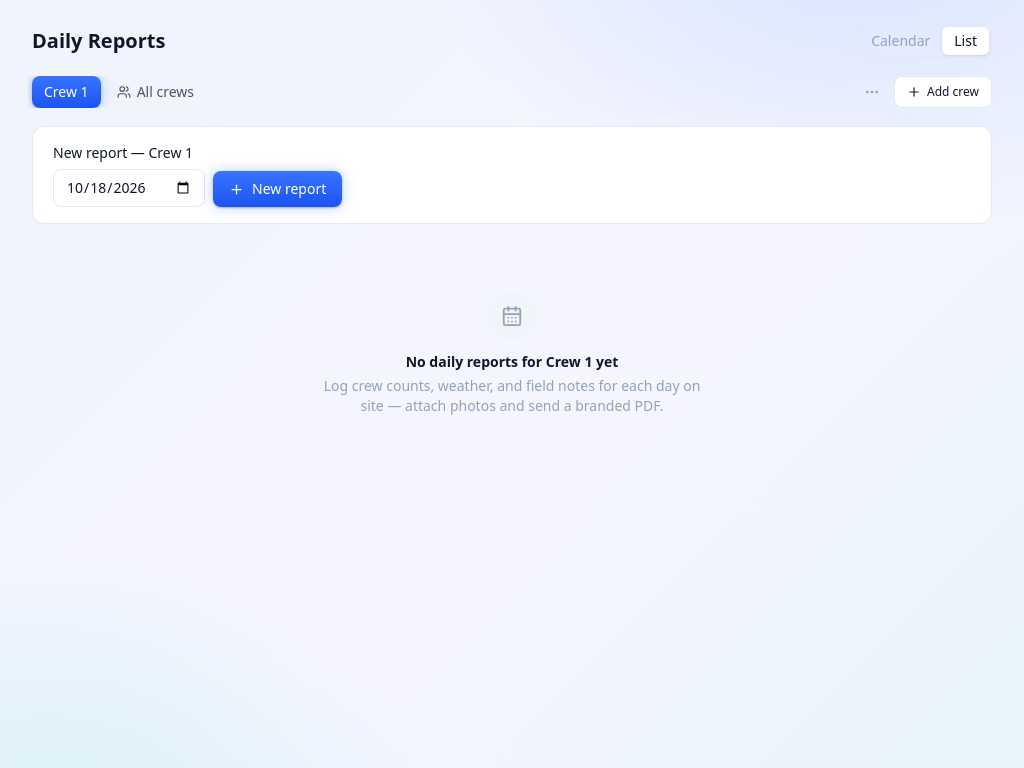
Test case: ProjectDailyReports — crews › can't delete the project's only crew
Click the button named "Crew 1 options". click: click(872, 92)
box: top-left (854, 74), bottom-right (890, 110)
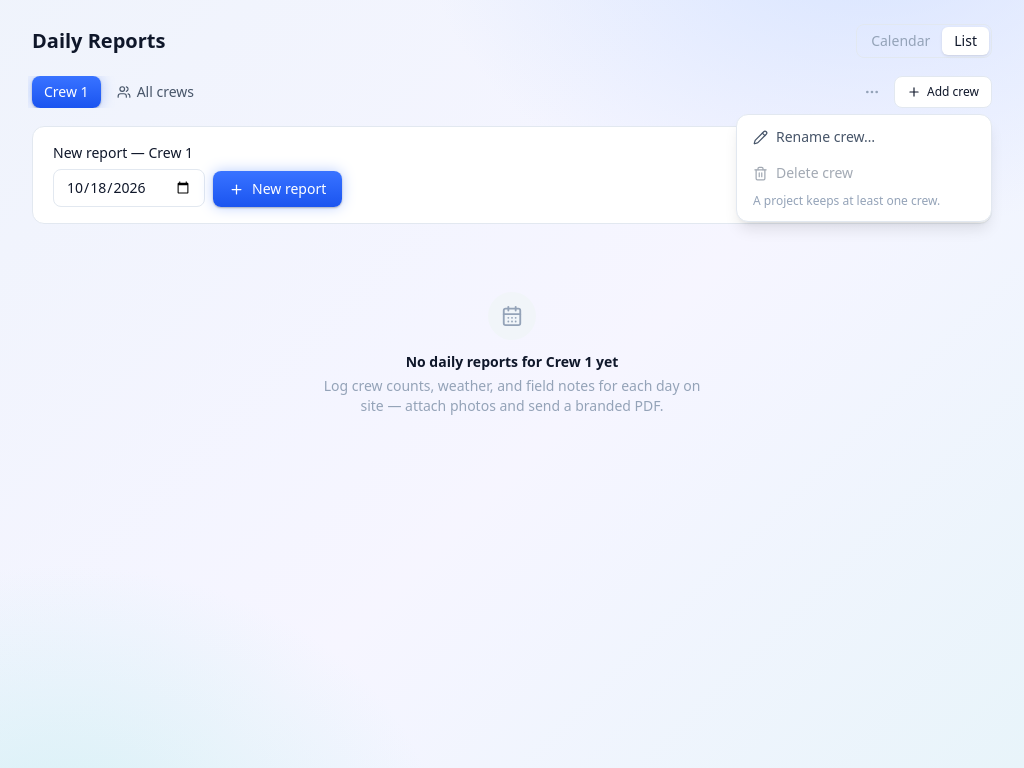
Check: the menu item "Delete crew" is disabled, box top-left (741, 155), bottom-right (987, 191)
Check: the text "A project keeps at least one crew." is shown, box top-left (753, 192), bottom-right (940, 209)
